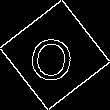O_N: (31, 27, 79, 83)
